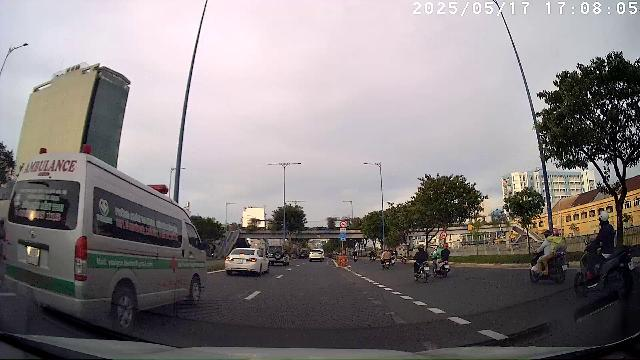103a-cam-oto: (440, 231, 447, 239)
